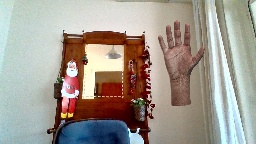Mano_aperta: (154, 18, 205, 75)
